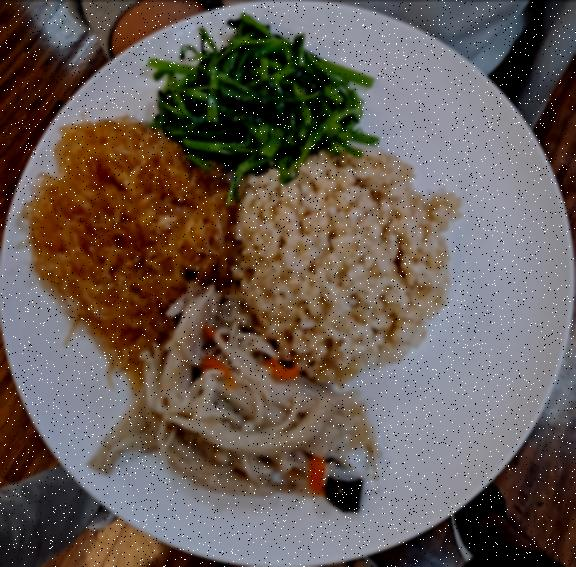brown rice: (230, 142, 456, 378)
plate: (6, 7, 576, 564)
side dish: (127, 315, 388, 512), (35, 114, 219, 342), (156, 24, 369, 162)
